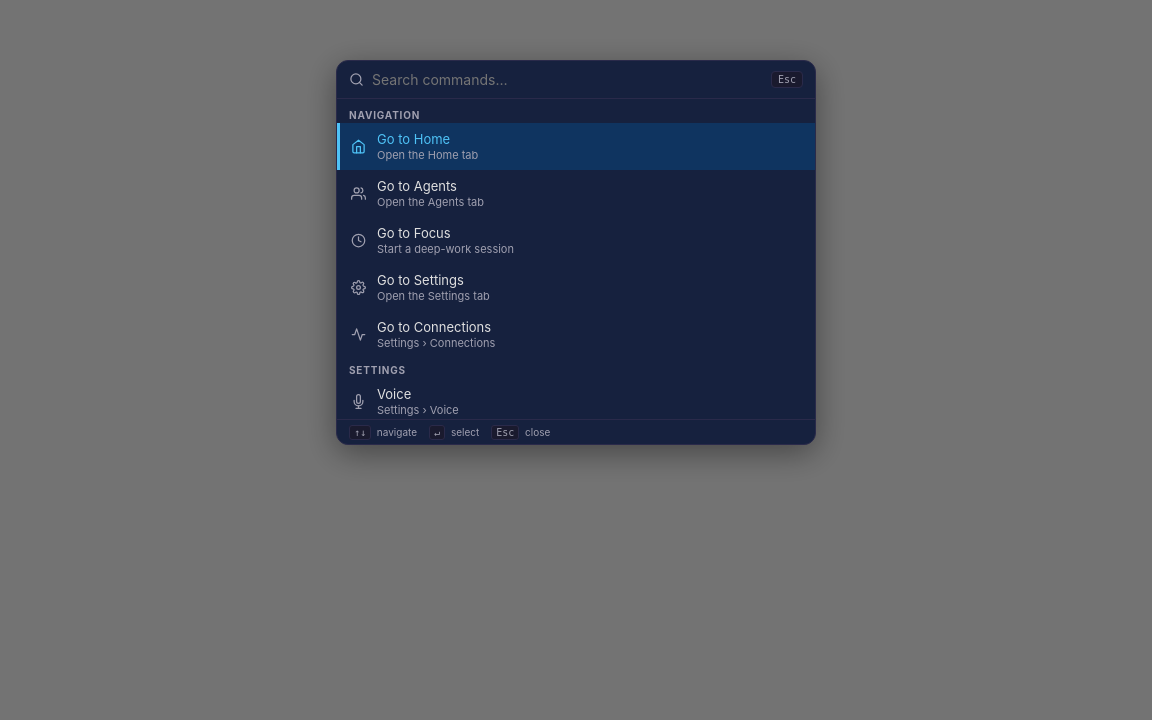
Scenario: CommandPalette › filters items by query
This screenshot has width=1152, height=720.
Type "agent" into the field with placeholder "Search commands…" at [567, 80], box [372,71,763,88]
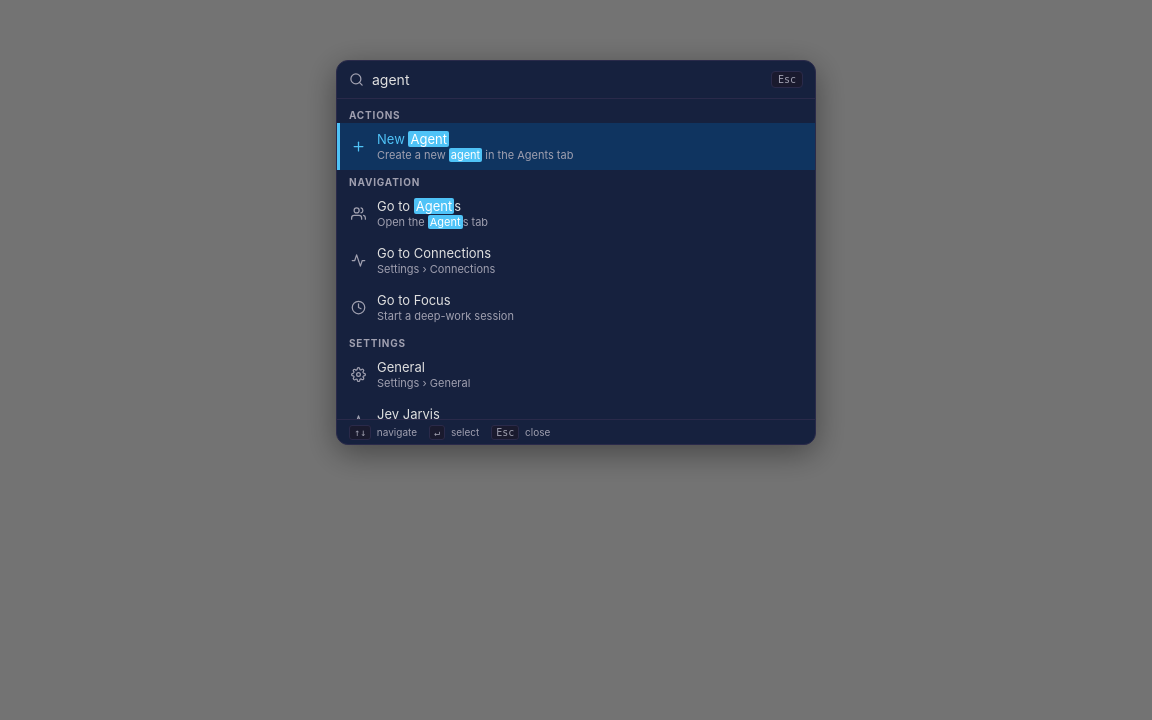
Expected: the option "Go to Home" is gone
